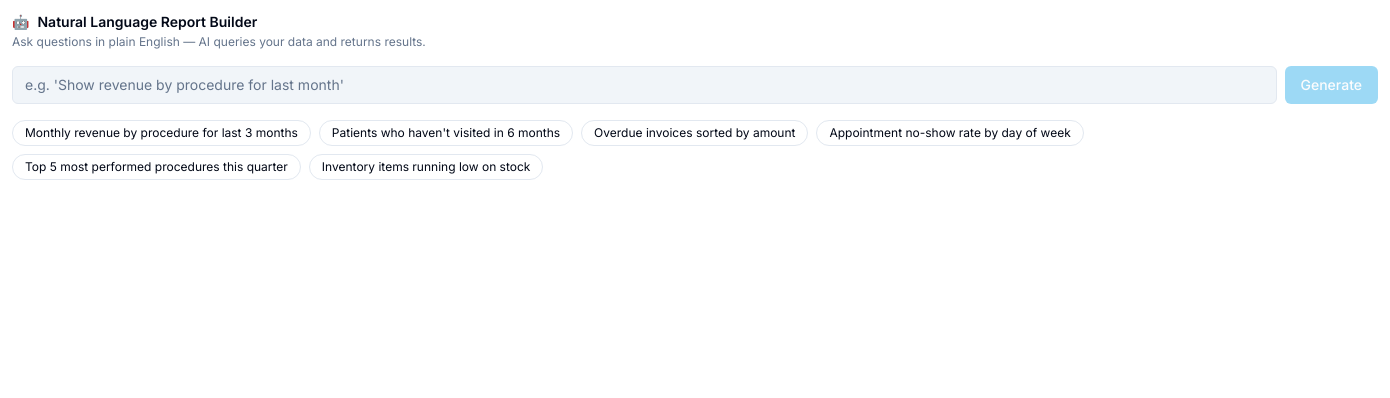
Test: ReportBuilder › submits query and shows results table
Step 1. Type "Show revenue" into the field with placeholder "e.g. 'Show revenue by procedure for last month'" → coordinates (644, 85), box top-left (12, 66), bottom-right (1276, 104)
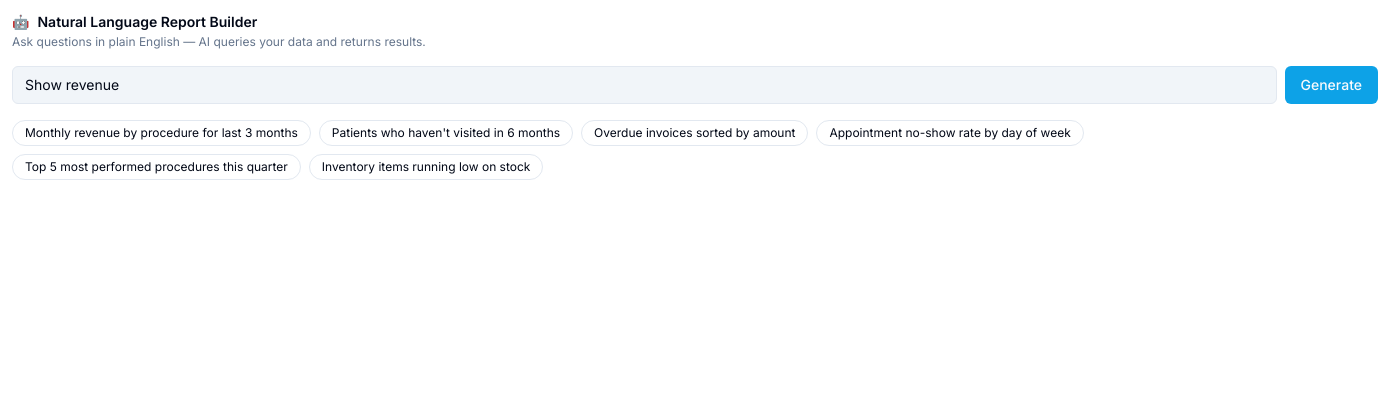
Step 2. Click the button "Generate" → coordinates (1331, 85), box top-left (1284, 66), bottom-right (1378, 104)
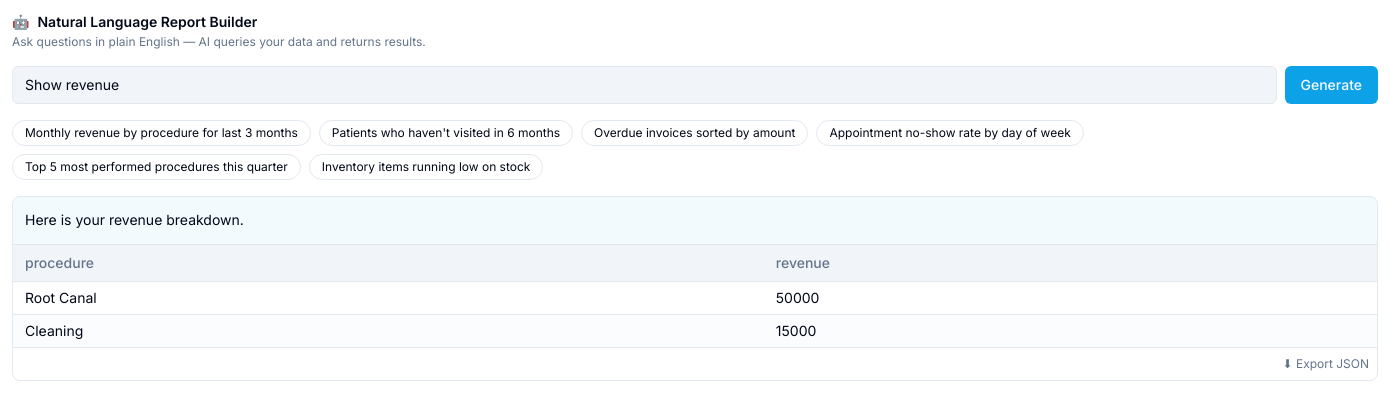
expect the text "Here is your revenue breakdown." is shown: met, box top-left (25, 211), bottom-right (244, 228)
expect the column heading "procedure" is shown: met, box top-left (13, 245), bottom-right (764, 281)
expect the column heading "revenue" is shown: met, box top-left (764, 245), bottom-right (1377, 281)
